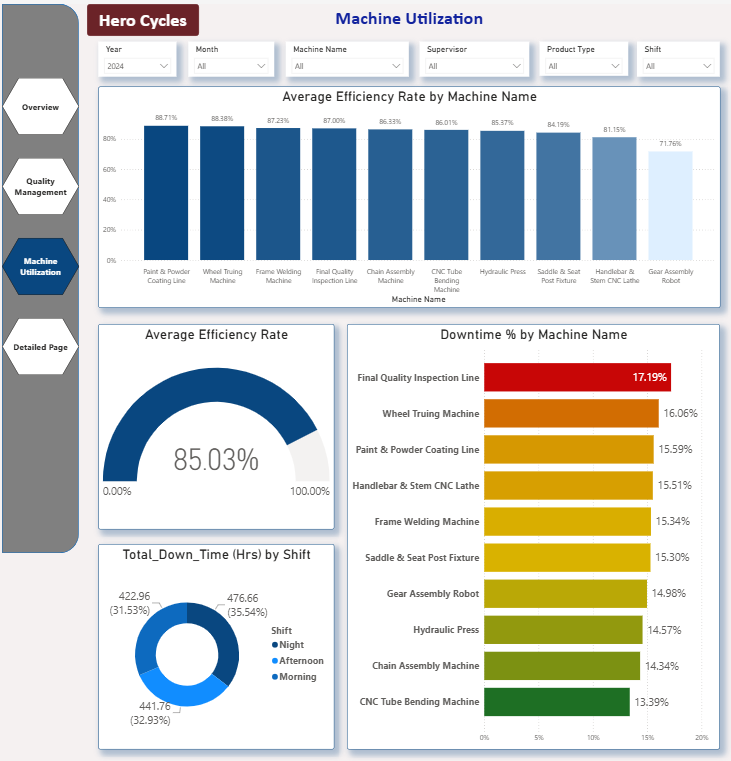

The page's visual inventory and layout, read from the dashboard file:
{"tool":"powerbi","page":{"name":"Machine Utilization","canvas":[1280,1350],"ordinal":2},"visuals":[{"type":"shape","box":[0,0,134.3,960.3],"z":0},{"type":"pageNavigator","box":[0,130,135,523.3],"z":1000},{"type":"textbox","box":[144,0,1135.7,50],"z":2000},{"type":"clusteredColumnChart","fields":{"Y":["Measures_All.Average Efficiency Rate"],"Category":["Machines.Machine Name"]},"box":[168.1,145.2,1087.8,387.2],"z":3000},{"type":"donutChart","fields":{"Category":["Shifts.Shift"],"Y":["Measures_All.Total_Down_Time (Hrs)"]},"box":[168.1,945.1,412.7,359.2],"z":4000},{"type":"clusteredBarChart","fields":{"Y":["Measures_All.Downtime %"],"Category":["Machines.Machine Name"]},"box":[603.8,560.5,652.2,743.9],"z":5000},{"type":"gauge","title":"Average Efficiency Rate","fields":{"Y":["Measures_All.Average Efficiency Rate"]},"box":[168.1,560.5,412.7,359.2],"z":6000},{"type":"slicer","fields":{"Values":["Calender.Year"]},"box":[167.9,65.7,137,62],"z":7000},{"type":"slicer","fields":{"Values":["Calender.Month"]},"box":[326.1,65.7,150,62],"z":8000},{"type":"slicer","fields":{"Values":["Machines.Machine Name"]},"box":[495.7,65.7,215.2,62],"z":9000},{"type":"slicer","fields":{"Values":["Operator.Name"]},"box":[730.4,65.7,192.4,62],"z":10000},{"type":"slicer","fields":{"Values":["Products.Category"]},"box":[939.1,65.7,154.9,60.3],"z":11000},{"type":"slicer","fields":{"Values":["Manufacturing Data.Shift"]},"box":[1110.3,65.7,145.1,62],"z":12000},{"type":"textbox","box":[148.4,0,195.7,56],"z":13000}]}

Visuals, with their boxes in screenshot pixels (x1, y1, x2, y2), scaled from the page's 1280x1350 canvas onto the 731x761 screenshot:
shape: box(0, 0, 77, 541)
pageNavigator: box(0, 73, 77, 368)
textbox: box(82, 0, 730, 28)
clusteredColumnChart - Measures_All.Average Efficiency Rate x Machines.Machine Name: box(96, 82, 717, 300)
donutChart - Shifts.Shift x Measures_All.Total_Down_Time (Hrs): box(96, 533, 332, 735)
clusteredBarChart - Measures_All.Downtime % x Machines.Machine Name: box(345, 316, 717, 735)
"Average Efficiency Rate" gauge: box(96, 316, 332, 518)
slicer - Calender.Year: box(96, 37, 174, 72)
slicer - Calender.Month: box(186, 37, 272, 72)
slicer - Machines.Machine Name: box(283, 37, 406, 72)
slicer - Operator.Name: box(417, 37, 527, 72)
slicer - Products.Category: box(536, 37, 625, 71)
slicer - Manufacturing Data.Shift: box(634, 37, 717, 72)
textbox: box(85, 0, 197, 32)
